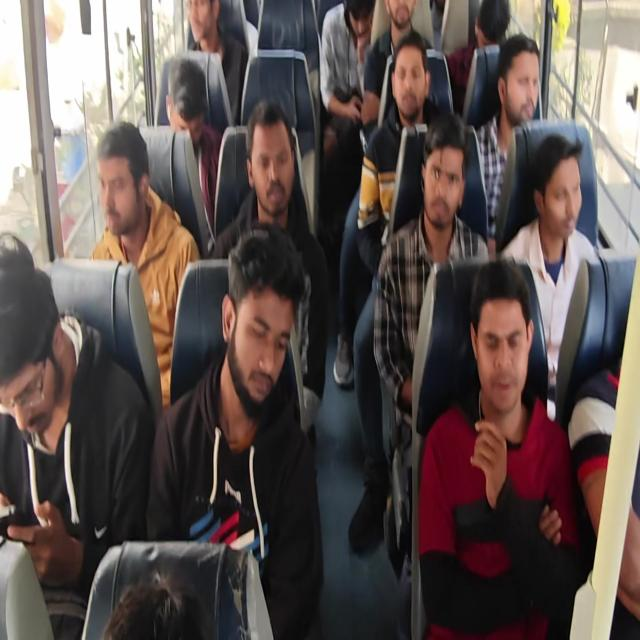person: (1, 1, 637, 638), (146, 221, 324, 638), (499, 132, 639, 619), (417, 258, 580, 638), (0, 240, 154, 638), (372, 111, 491, 569), (348, 31, 443, 552), (210, 99, 328, 445), (89, 120, 201, 408), (500, 132, 602, 423), (356, 31, 442, 278), (568, 364, 640, 621), (474, 33, 541, 244), (165, 56, 222, 238), (361, 0, 434, 135), (319, 0, 375, 156), (185, 0, 248, 123), (445, 0, 511, 114), (102, 569, 207, 639)
